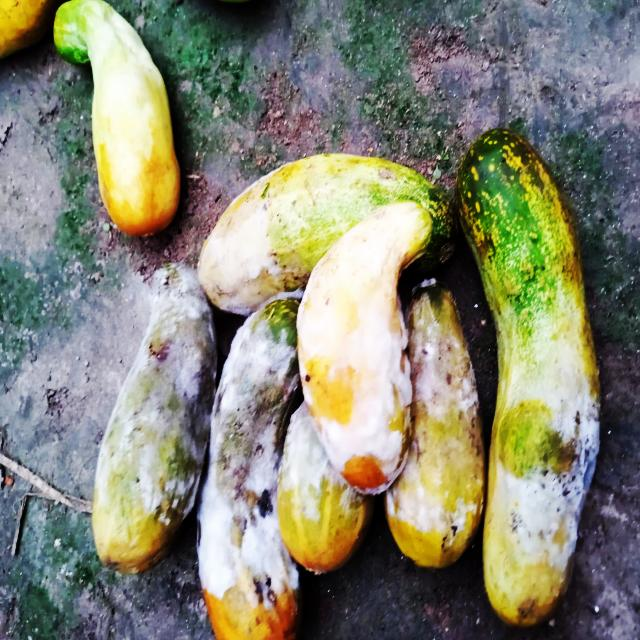Pythium-Fruit-Rot: (193, 298, 309, 610), (94, 264, 220, 523), (300, 260, 412, 497), (386, 296, 489, 537), (497, 357, 603, 570), (198, 176, 299, 320), (277, 396, 364, 520)
